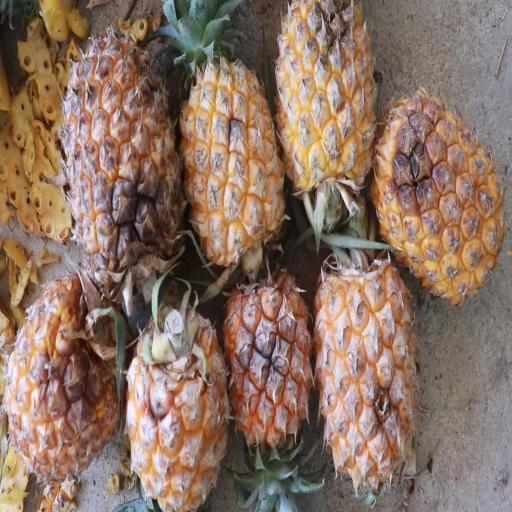Pineapple - v8 v1: (56, 6, 186, 300), (369, 67, 506, 302), (175, 1, 291, 273), (309, 232, 420, 488), (4, 256, 124, 492), (121, 271, 232, 512), (220, 252, 314, 506), (273, 4, 377, 199)
